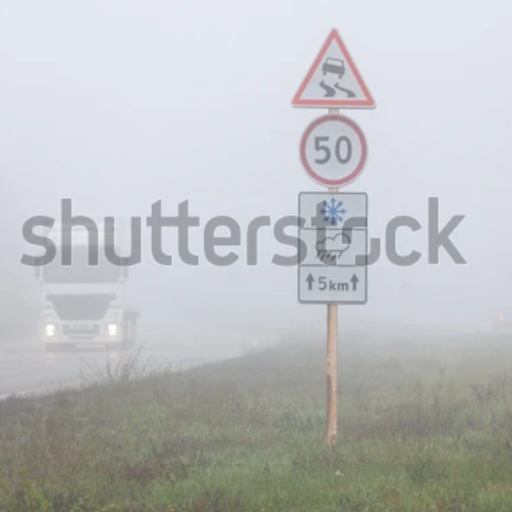Slippery road: (283, 26, 384, 115)
Speed limit: (295, 108, 374, 188)
